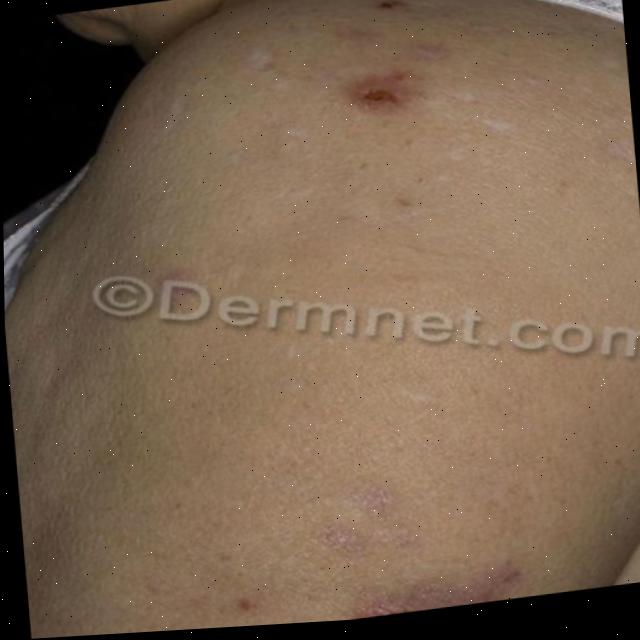Eczema: (340, 558, 495, 620), (352, 70, 400, 125), (366, 0, 422, 21)
